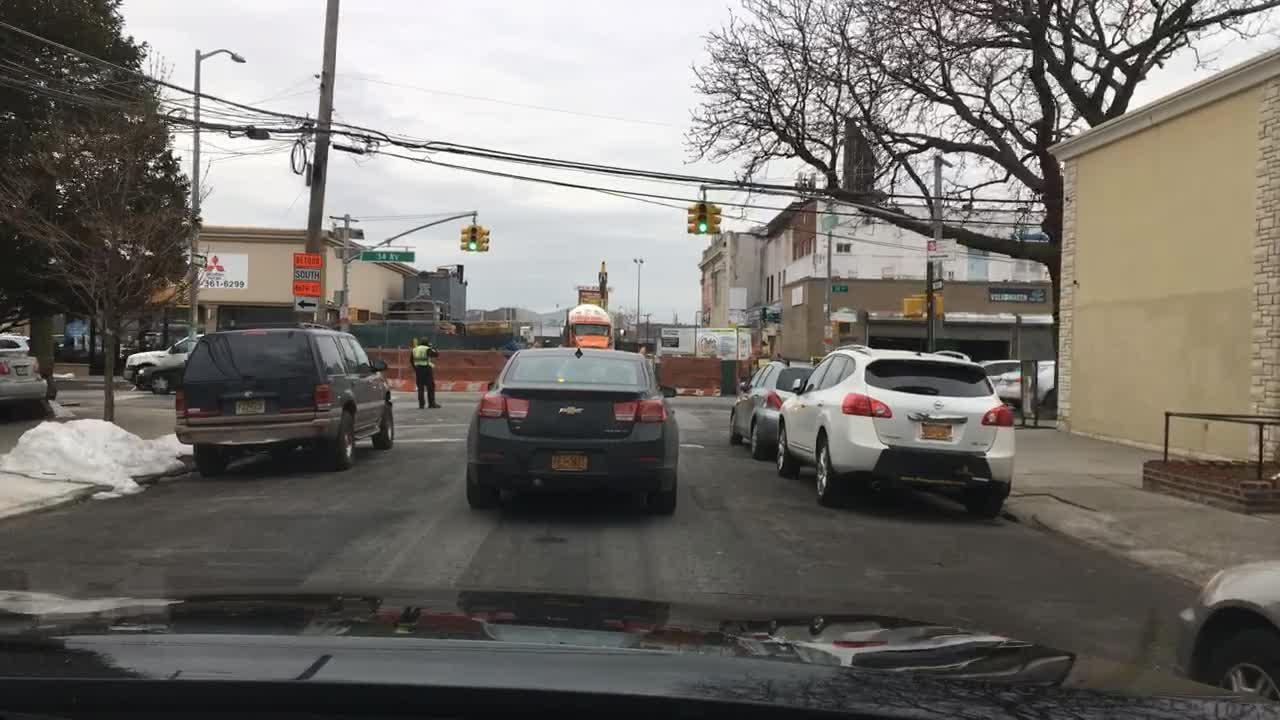Nissan: (929, 397, 952, 415)
chevrolet: (552, 397, 592, 422)
